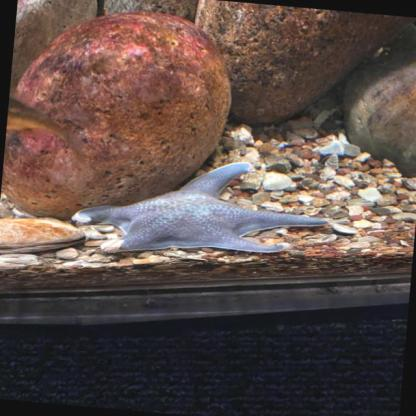starfish: (67, 147, 338, 275)
